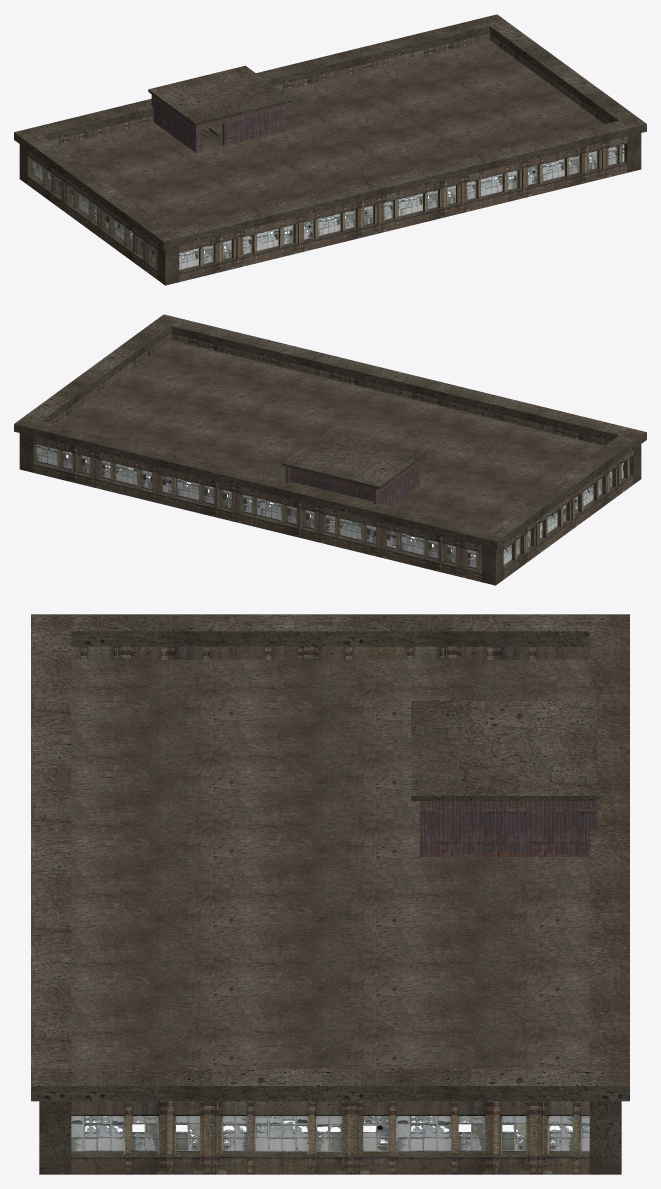
The model's file is BagSS08top_high.fbx.
3 renders of one model, top to bottom at view 1: azimuth 30°, elevation 25°; view 2: azimuth 150°, elevation 25°; view 3: azimuth 270°, elevation 25°, orthographic. The views are drawn at different scales.
Visible parts, largest first — view 1: topCrete700, topMain700, topWalls700; view 2: topCrete700, topMain700, topWalls700; view 3: topCrete700, topMain700, topWalls700.
Boxes of the visible parts, left/top/right/bottom form: topCrete700: left=14, top=14, right=646, bottom=285; topMain700: left=27, top=33, right=627, bottom=281; topWalls700: left=151, top=95, right=367, bottom=216; topCrete700: left=14, top=314, right=646, bottom=585; topMain700: left=33, top=333, right=633, bottom=581; topWalls700: left=150, top=460, right=420, bottom=537; topCrete700: left=31, top=614, right=629, bottom=1174; topMain700: left=71, top=646, right=589, bottom=1174; topWalls700: left=419, top=801, right=597, bottom=856.
Bounding box in the file's own units: 61.81 × 7.86 × 33.18.
